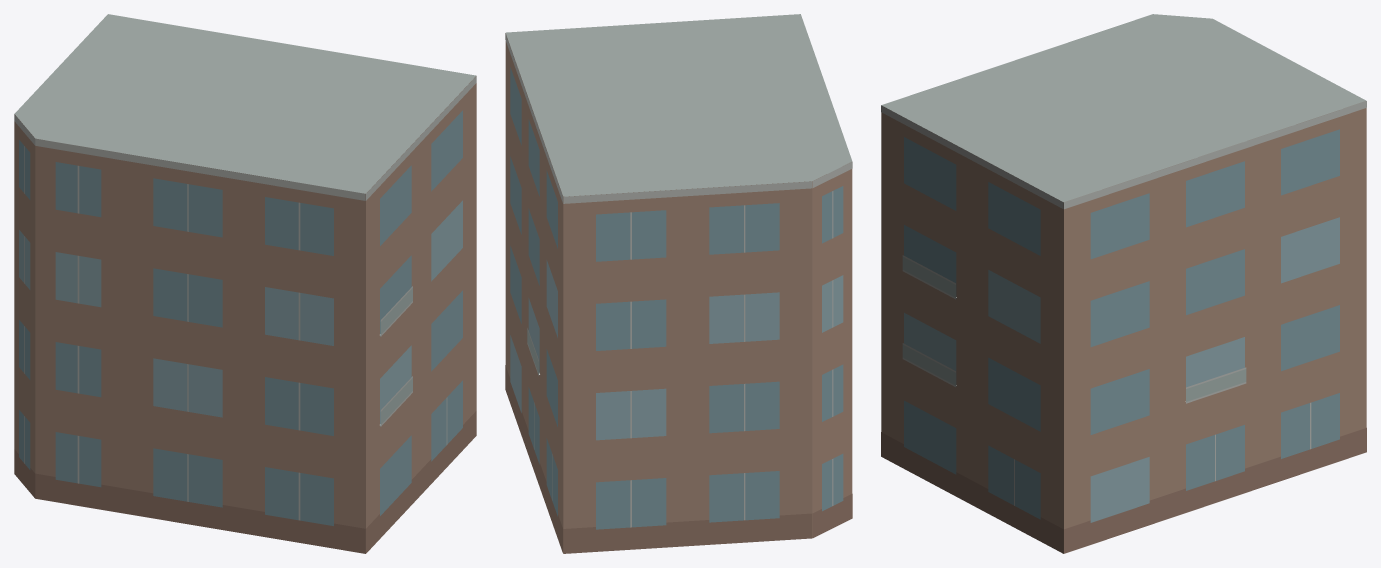
File: residential-d438f6a2-f35c-4499-80b4-e6b782f24d79.glb
3 views of the same model, side by side, from view 1: azimuth 30°, elevation 25°; view 2: azimuth 150°, elevation 25°; view 3: azimuth 270°, elevation 25° (orthographic). The views are drawn at different scales.
Parts seen in each view (by area): view 1: residential-d438f6a2-f35c-4499-80b4-e6b782f24d79.tmp; view 2: residential-d438f6a2-f35c-4499-80b4-e6b782f24d79.tmp; view 3: residential-d438f6a2-f35c-4499-80b4-e6b782f24d79.tmp.
Part boxes in pixels (bbox=[...]): residential-d438f6a2-f35c-4499-80b4-e6b782f24d79.tmp: bbox=[14, 14, 476, 553]; residential-d438f6a2-f35c-4499-80b4-e6b782f24d79.tmp: bbox=[505, 14, 852, 553]; residential-d438f6a2-f35c-4499-80b4-e6b782f24d79.tmp: bbox=[881, 14, 1366, 553].
Size of the model in its own units: 14.03 by 12.2 by 15.28.
